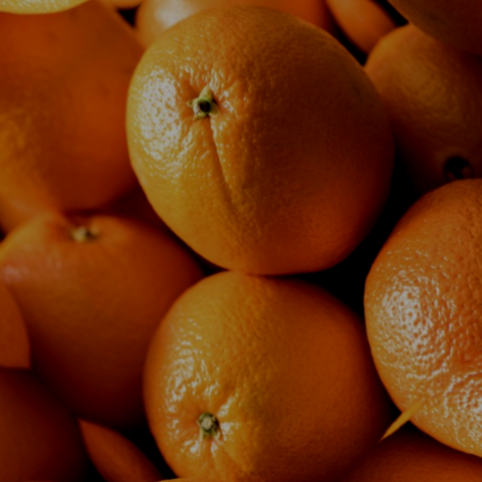orange: (40, 0, 465, 351), (56, 186, 441, 482)
